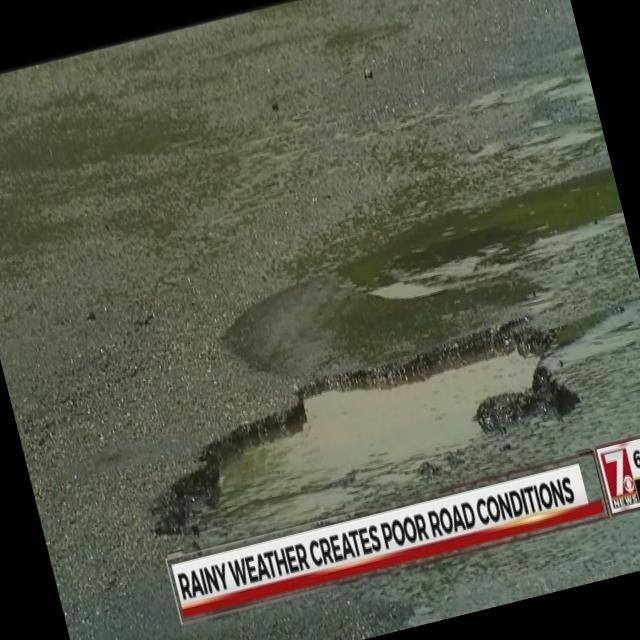Pothole: (122, 304, 606, 564), (318, 157, 630, 310)
